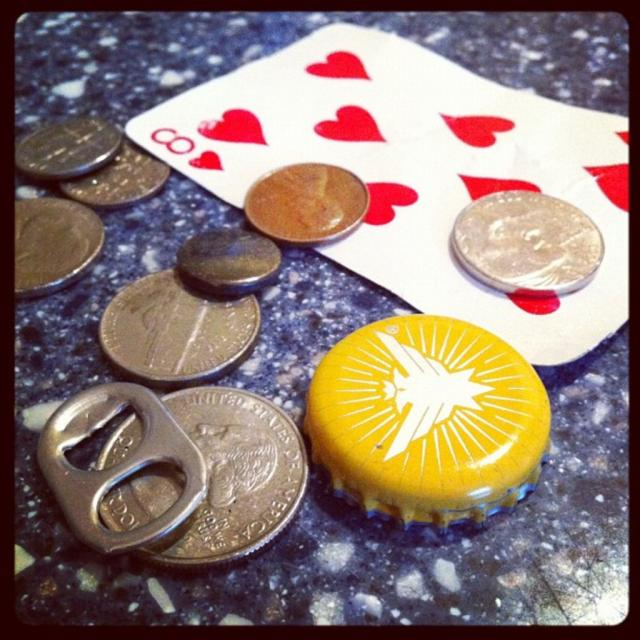Coin: (92, 386, 313, 561), (95, 267, 272, 382), (450, 186, 604, 293), (238, 161, 370, 247), (15, 196, 106, 293), (4, 110, 116, 174), (60, 138, 172, 202)
